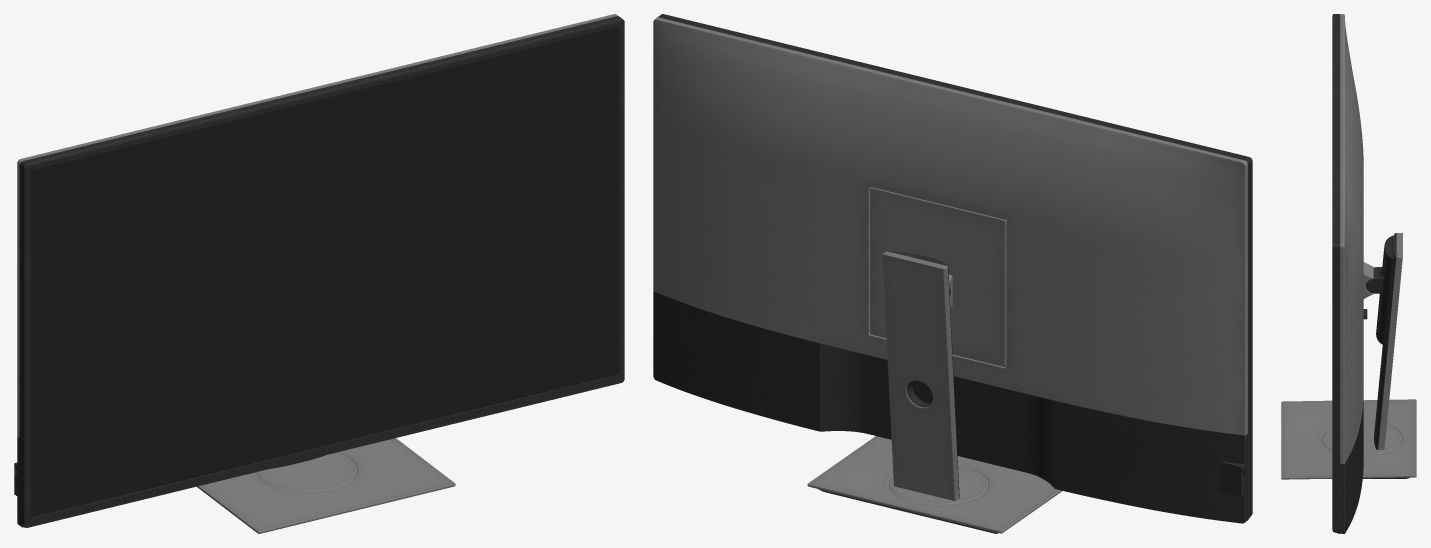
Rendered from monitor_v02.obj.
3 views of the same model, side by side, from view 1: azimuth 30°, elevation 25°; view 2: azimuth 150°, elevation 25°; view 3: azimuth 270°, elevation 25° (orthographic). The views are drawn at different scales.
Parts seen in each view (by area): view 1: screen, grey, silver; view 2: silver, grey; view 3: silver, grey.
Part boxes in pixels (x1=…): screen: x1=31, y1=26, x2=618, y2=517; grey: x1=14, y1=16, x2=624, y2=527; silver: x1=17, y1=14, x2=617, y2=533; silver: x1=653, y1=17, x2=1247, y2=533; grey: x1=653, y1=14, x2=1252, y2=533; silver: x1=1281, y1=14, x2=1416, y2=479; grey: x1=1331, y1=14, x2=1409, y2=533.
Bounding box in the file's own units: 96.77 × 61.45 × 23.85.
3 materials, 3 textured.
